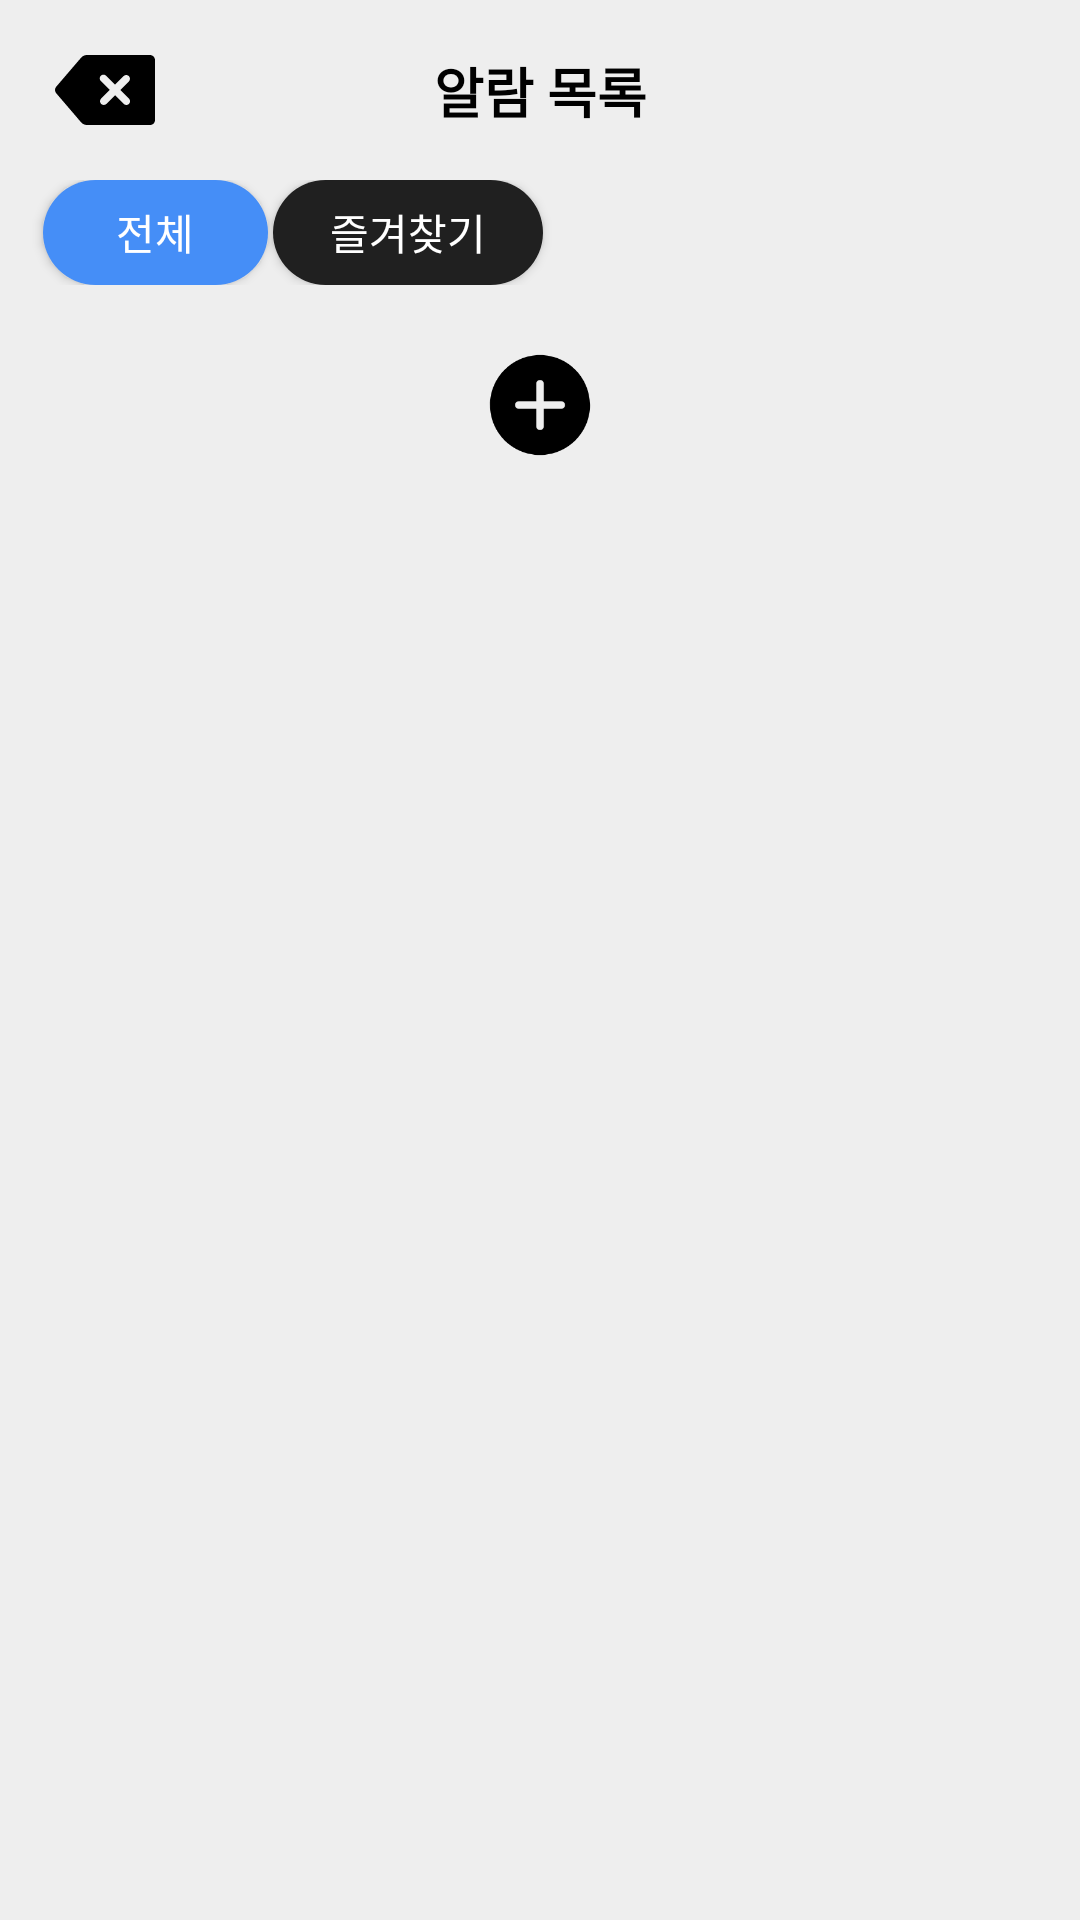

Icons on this 1080px×1920px Android screen, each with the point to tap as (x,y):
iconmonstr backspace: (105,90)
iconmonstr plus circle: (540,405)
